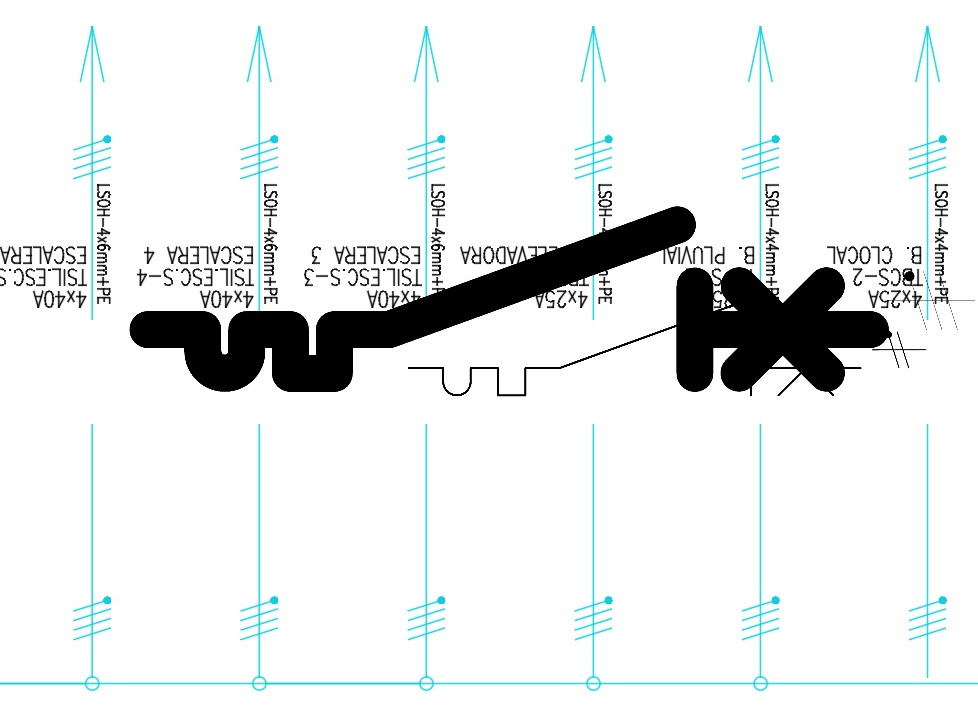interruptor_termomagnetico: (129, 206, 889, 392), (397, 291, 872, 407)
